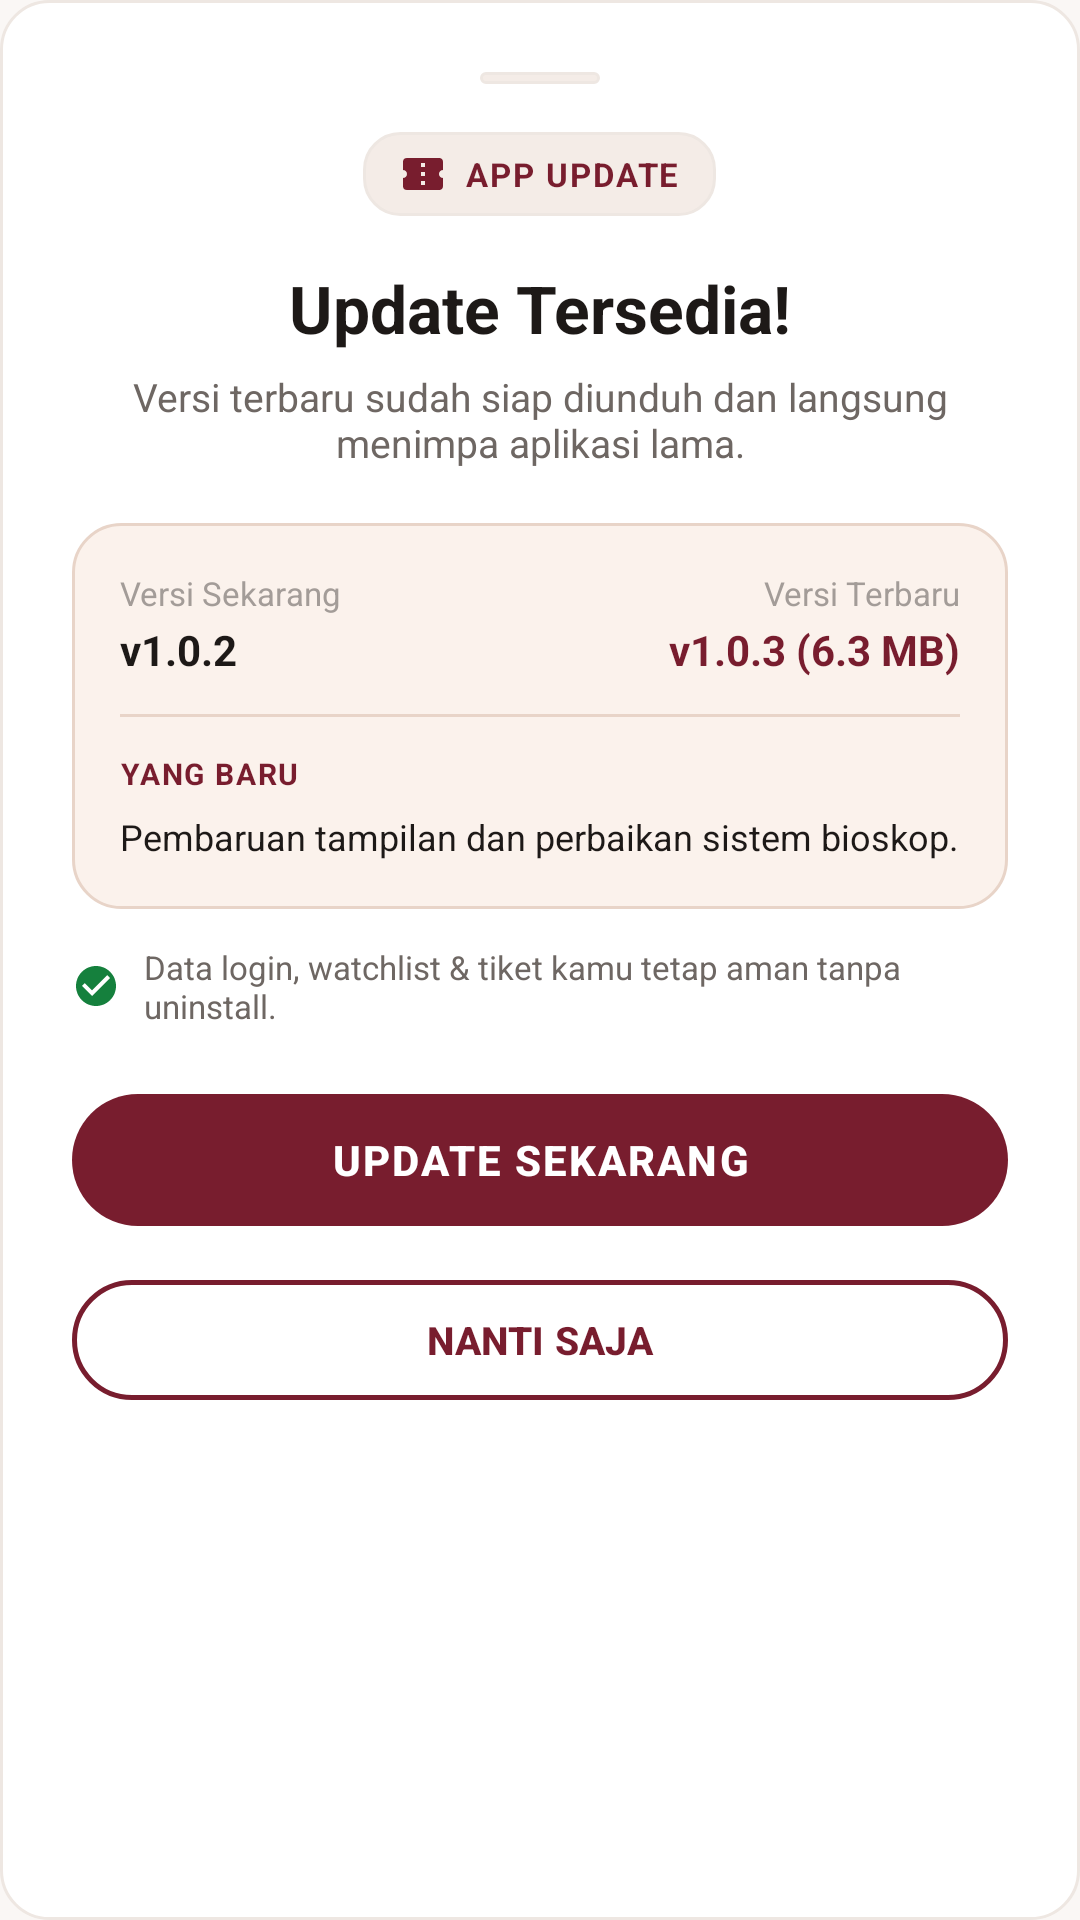

Icon bounding boxes for this 1080x1920 phone screenshot, format (x1, y1, x2, y2):
check circle: (76, 966, 116, 1006)
ticket: (403, 158, 443, 190)
